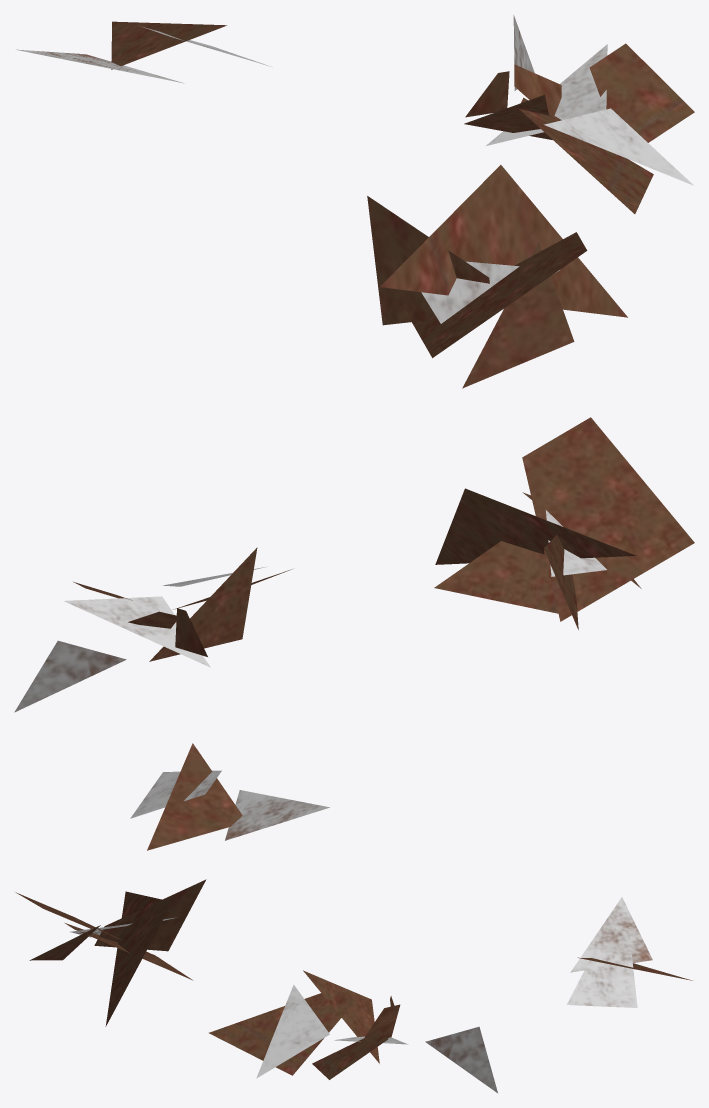
File: Trash3.fbx
The picture shows the model from 3 angles, top to bottom: view 1: azimuth 30°, elevation 25°; view 2: azimuth 150°, elevation 25°; view 3: azimuth 270°, elevation 25°; orthographic projection. The views are drawn at different scales.
Visible parts, largest first — view 1: Trash.002; view 2: Trash.002; view 3: Trash.002.
Boxes of the visible parts, <box> form: Trash.002: <box>16,15,694,388</box>; Trash.002: <box>14,417,694,850</box>; Trash.002: <box>15,879,692,1093</box>.
Bounding box in the file's own units: 820229 × 467617 × 135616.
Materials: 2 (2 with a texture image).
